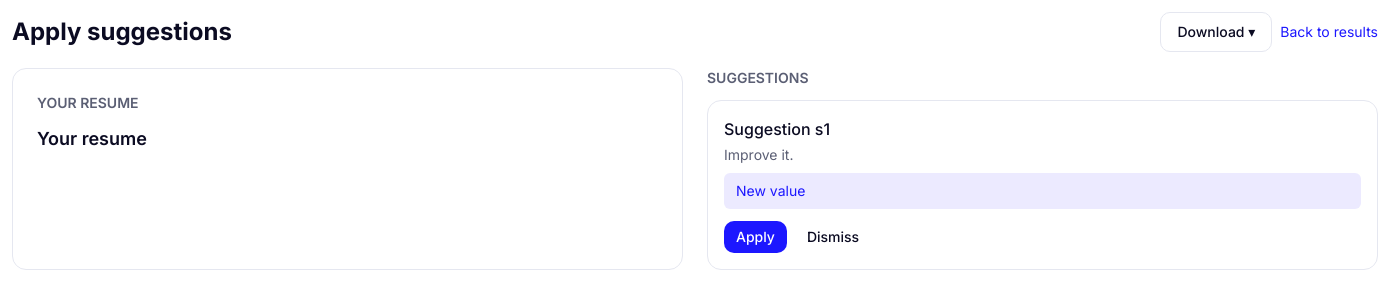
ApplySuggestionsPage › dismisses a suggestion
Check: the text "Suggestion s1" is shown, box [724,119,830,139]
Click the button "Dismiss". click: (833, 237)
box: [795,221,871,253]
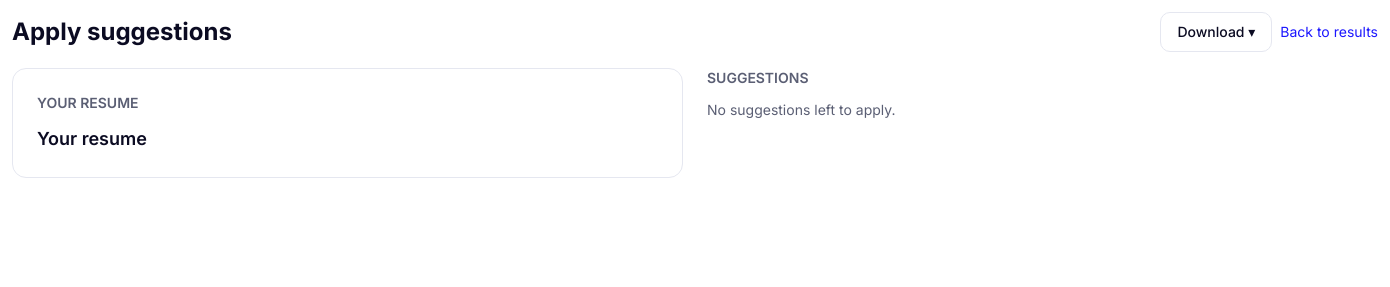
Check: the text "No suggestions left to apply." is shown, box [707,101,896,118]
